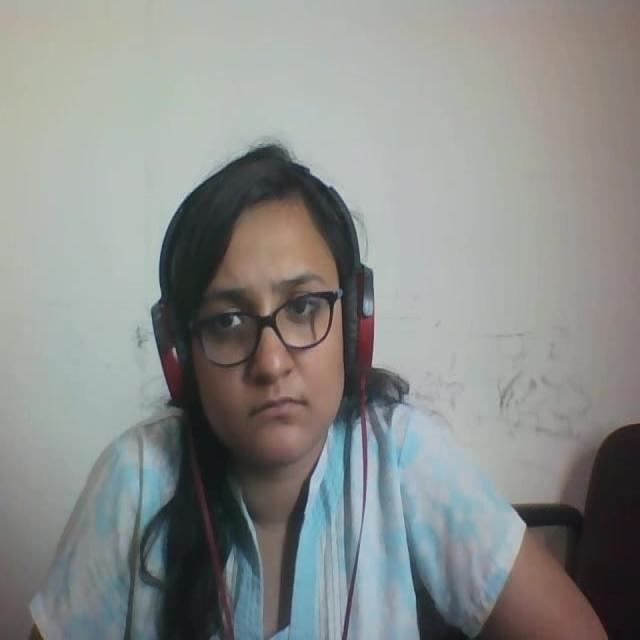Engaged: (136, 141, 388, 474)
